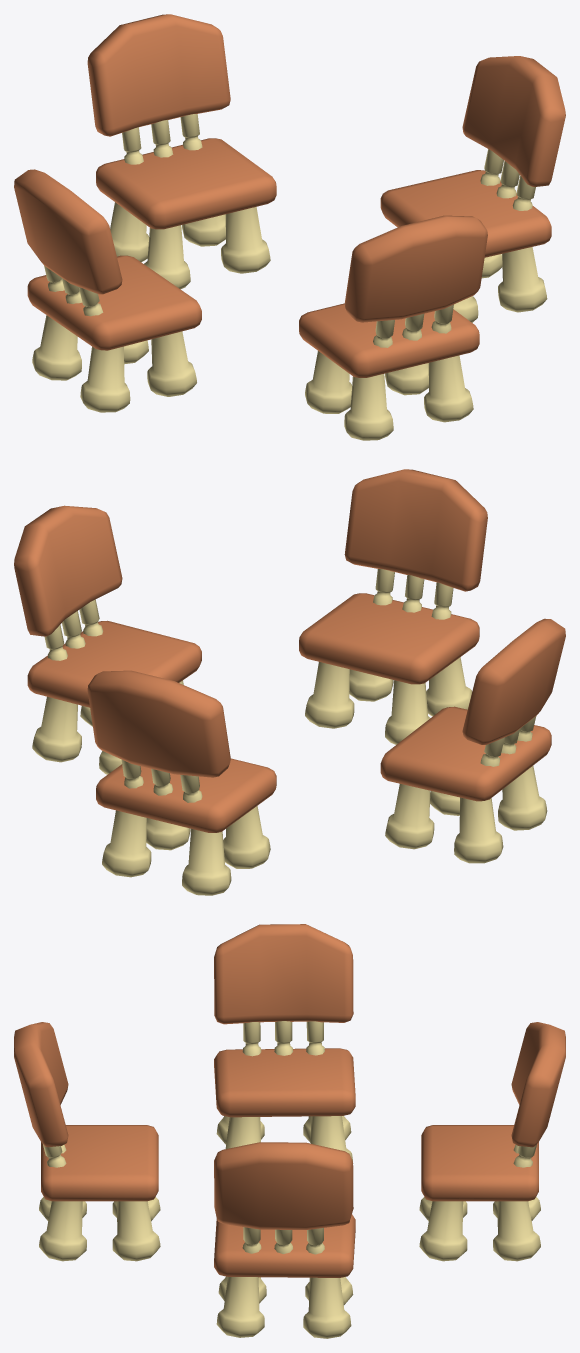
The model's file is SM_Chairs.fbx.
3 views of the same model, one above another, from view 1: azimuth 30°, elevation 25°; view 2: azimuth 150°, elevation 25°; view 3: azimuth 270°, elevation 25° (orthographic). The views are drawn at different scales.
Visible parts, largest first — view 1: SM_Chairs; view 2: SM_Chairs; view 3: SM_Chairs.
Boxes of the visible parts, <box> form: SM_Chairs: <box>14,14,565,440</box>; SM_Chairs: <box>14,469,565,895</box>; SM_Chairs: <box>14,924,565,1338</box>.
Bounding box in the file's own units: 587 × 238 × 586.
